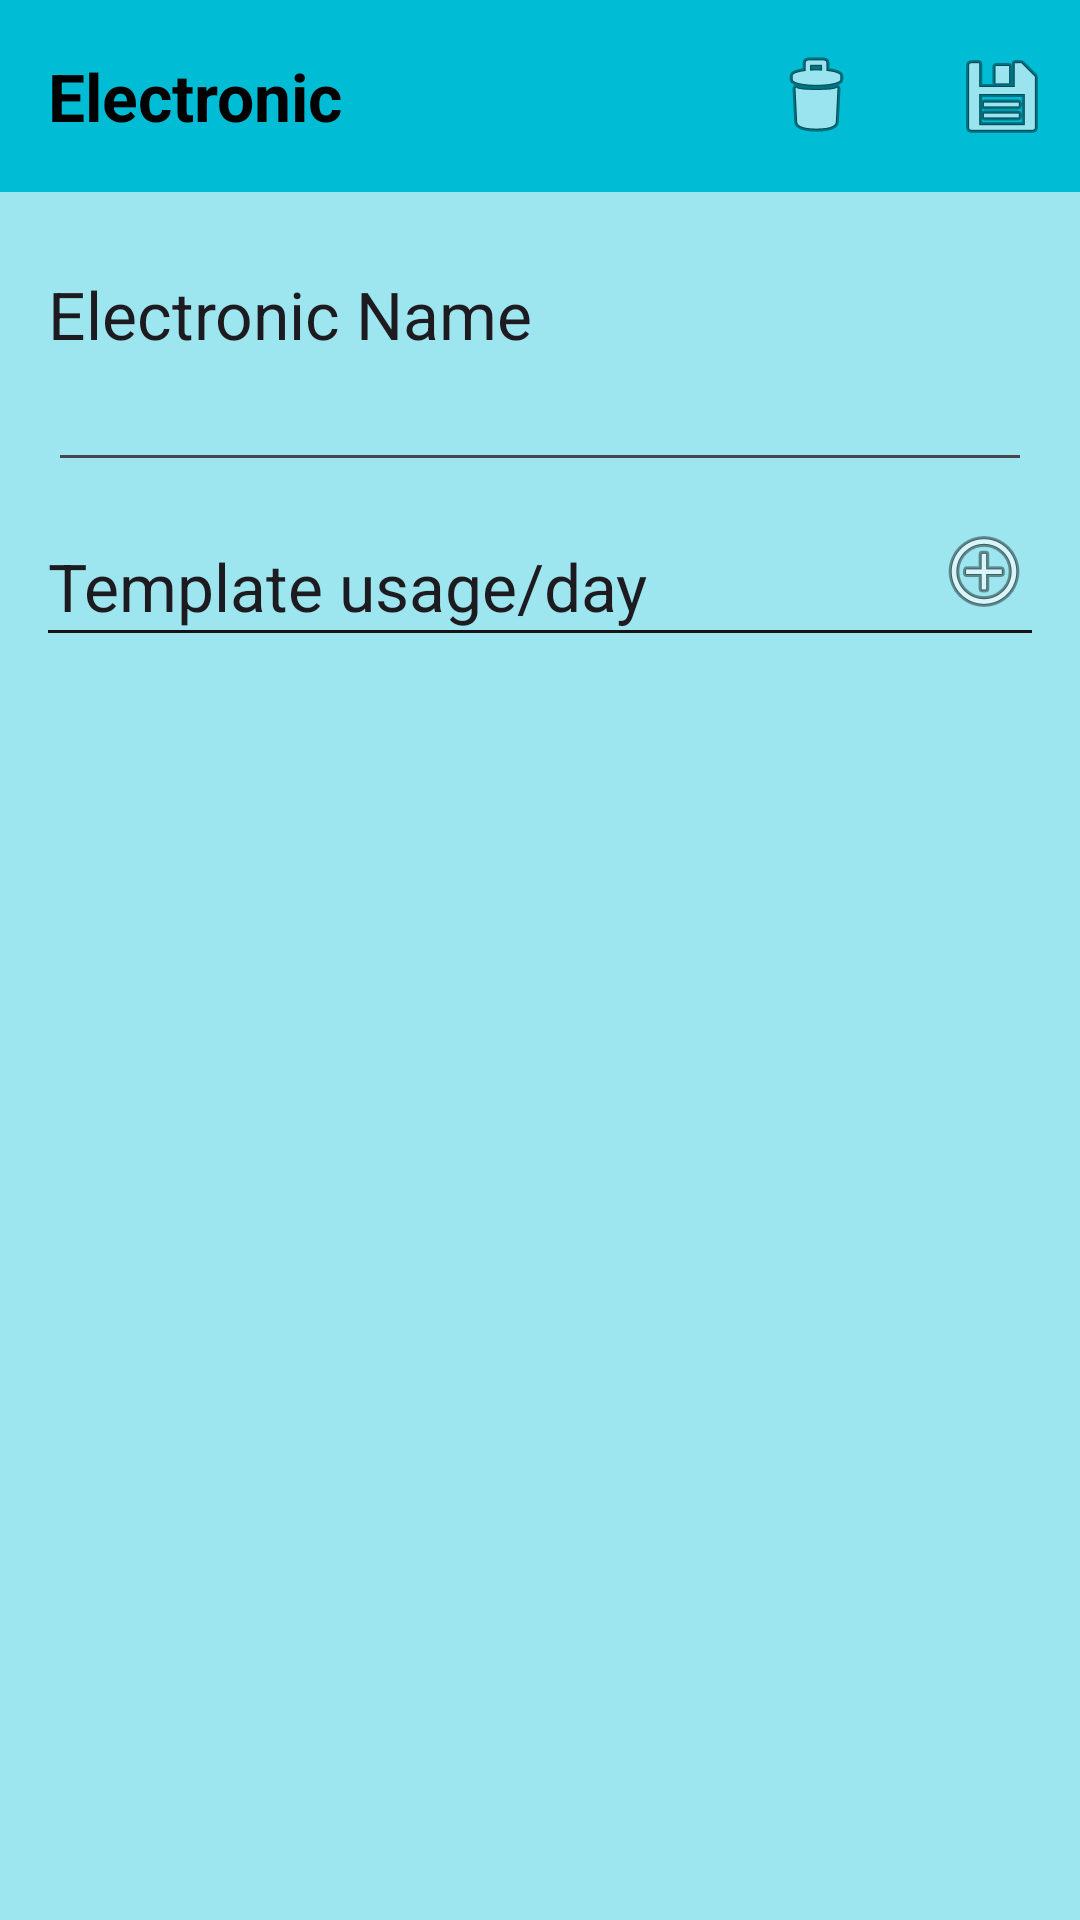

Screen size 1080px x 1920px. Icon name, then its center in pixels as (x=x, y=y):
add: (x=984, y=571)
delete: (x=816, y=94)
save: (x=1002, y=96)
